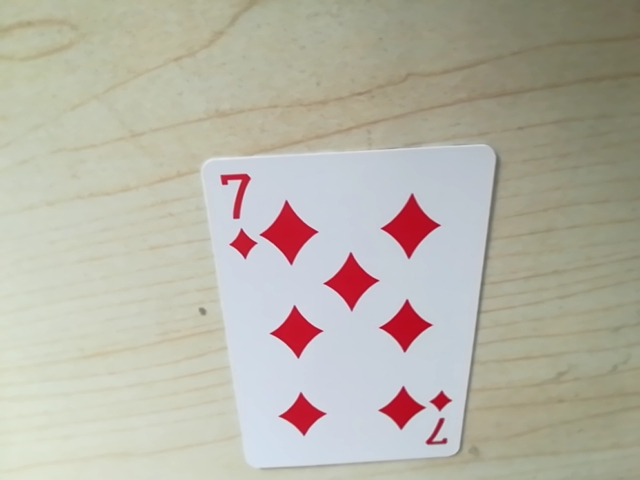fk 7: (417, 402, 455, 457), (211, 163, 255, 202)
